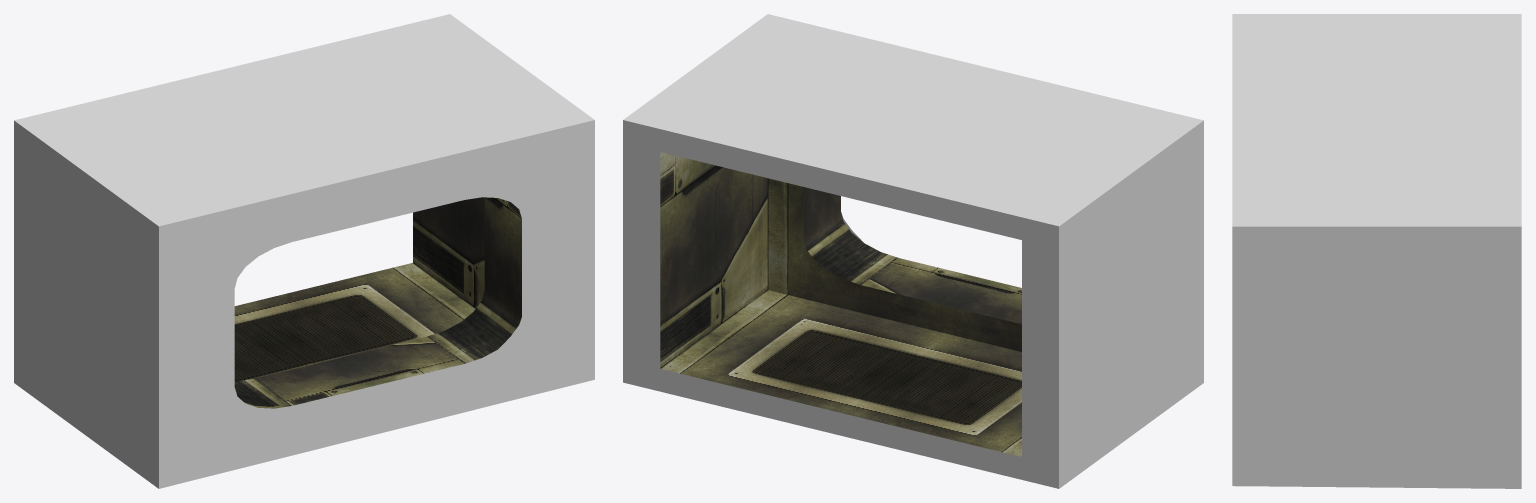
The picture shows the model from 3 angles, left to right: view 1: azimuth 30°, elevation 25°; view 2: azimuth 150°, elevation 25°; view 3: azimuth 270°, elevation 25°; orthographic projection.
Parts seen in each view (by area): view 1: Cube, Cube_1, Cube_2; view 2: Cube, Cube_1, Cube_2; view 3: Cube.
Boxes of the visible parts, bbox=[...] form: Cube: bbox=[14, 14, 594, 488]; Cube_1: bbox=[234, 197, 484, 381]; Cube_2: bbox=[234, 197, 521, 408]; Cube: bbox=[623, 14, 1203, 488]; Cube_1: bbox=[660, 152, 1021, 456]; Cube_2: bbox=[803, 187, 1021, 324]; Cube: bbox=[1232, 14, 1521, 488].
Size of the model in its own units: 870 by 501 by 501.
3 materials, 3 textured.
